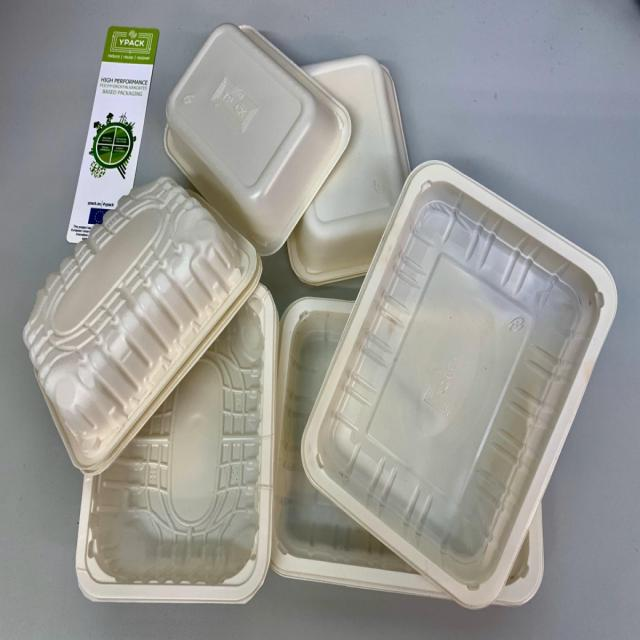plastic: (282, 166, 618, 613), (19, 182, 274, 604), (161, 23, 409, 271)
